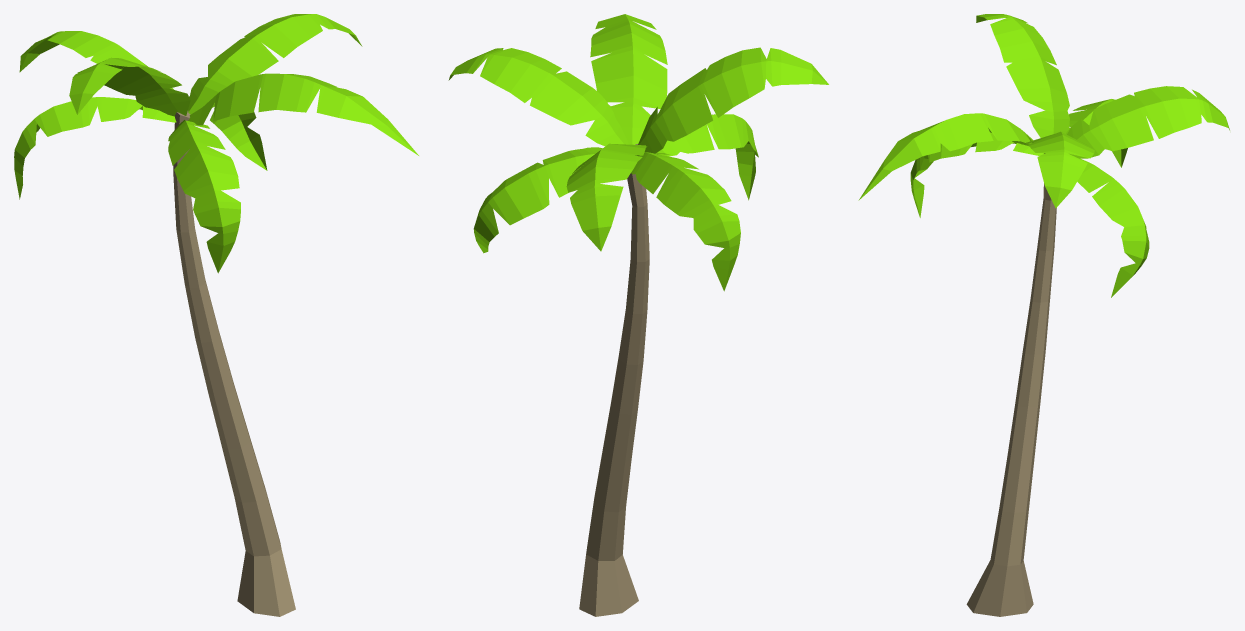
File: palm02.fbx
3 renders of one model, left to right at view 1: azimuth 30°, elevation 25°; view 2: azimuth 150°, elevation 25°; view 3: azimuth 270°, elevation 25°, orthographic. The views are drawn at different scales.
Visible parts, largest first — view 1: palm.002; view 2: palm.002; view 3: palm.002.
Boxes of the visible parts, x1,y1,x2,y2 form: palm.002: (14, 14, 418, 616); palm.002: (448, 14, 828, 616); palm.002: (858, 14, 1229, 616).
Bounding box in the file's own units: 213 × 354 × 230.
